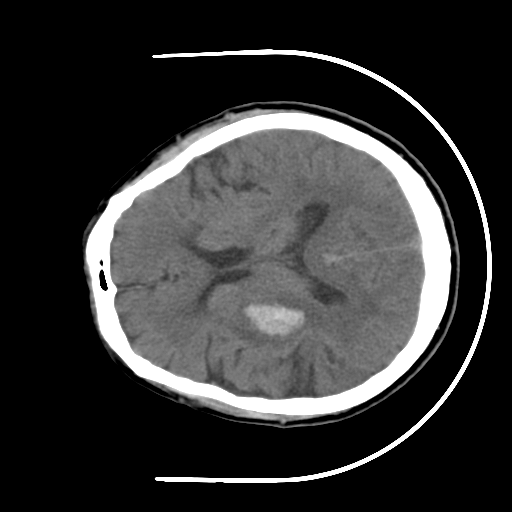a: (216, 281, 331, 358)
